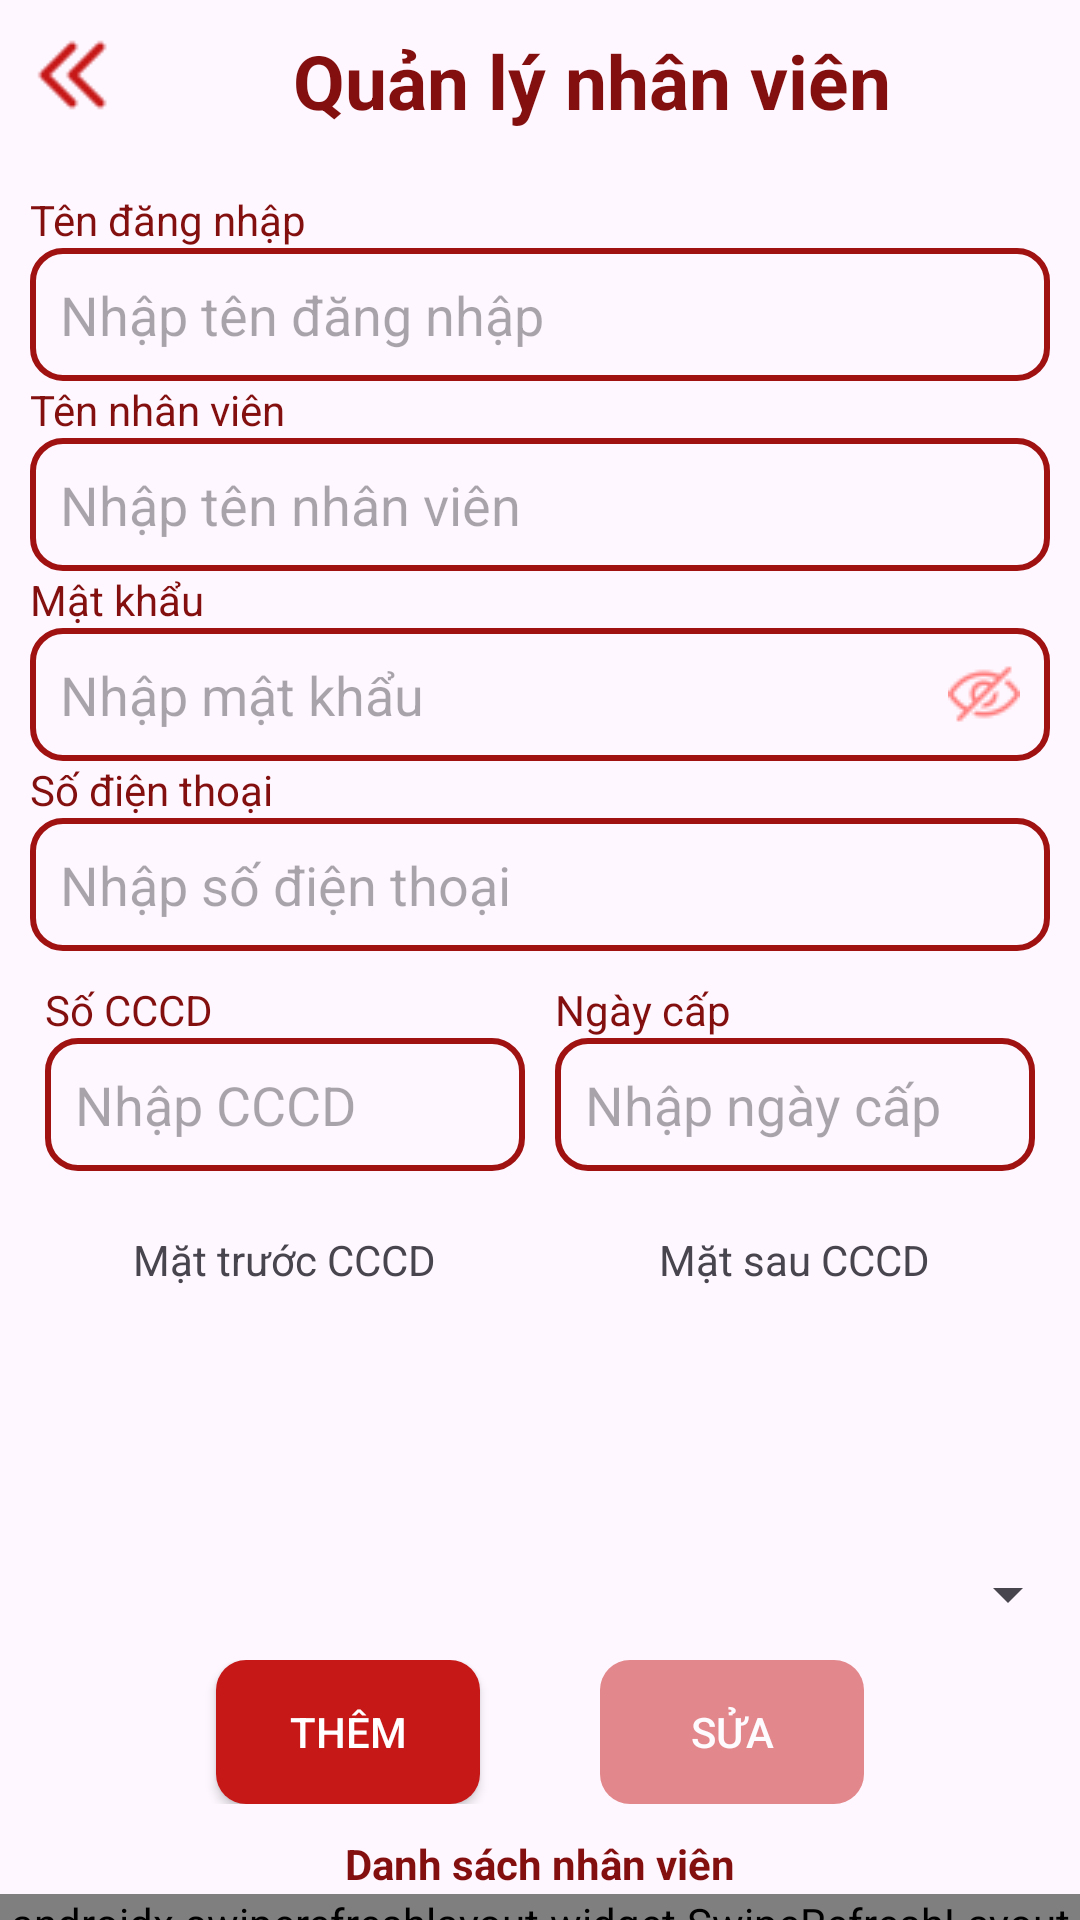

Locate icon controls on the screen. Image size 1080w x 1920h, boxes as rect(x1, y1, x2, y2).
back: rect(38, 41, 107, 109)
eye hide: rect(948, 666, 1020, 722)
